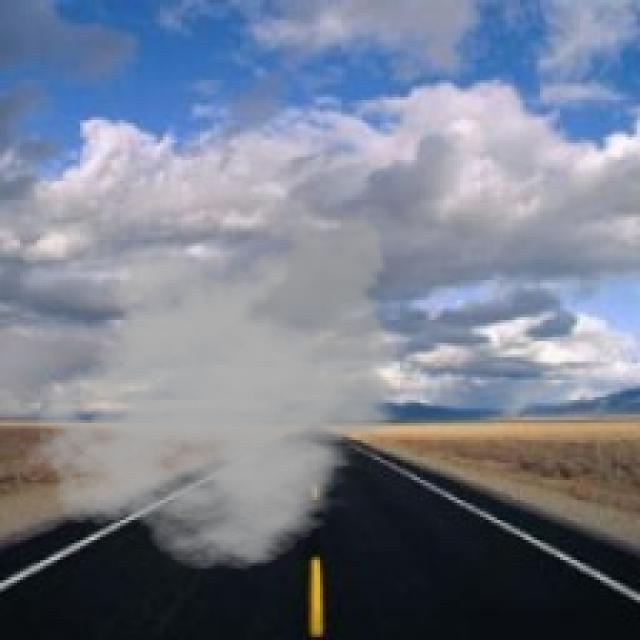Smoke: (22, 199, 408, 572)
